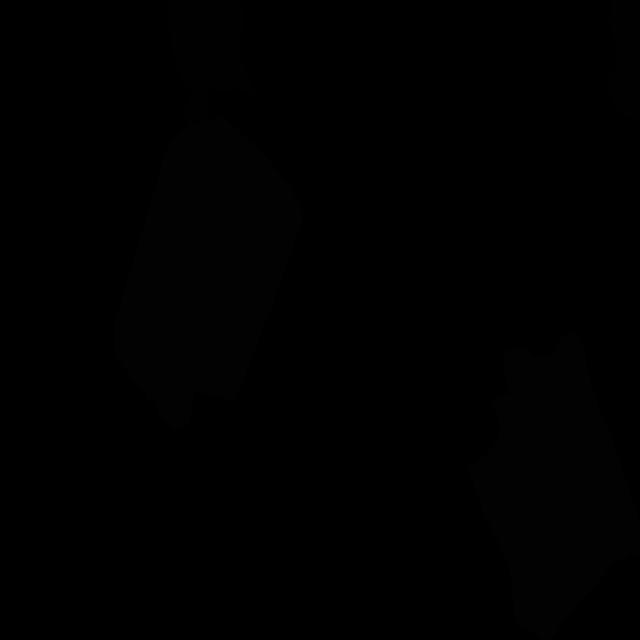cardboard: (114, 116, 304, 431), (468, 332, 640, 640)
rigid_plastic: (168, 0, 256, 127), (608, 0, 640, 119)
